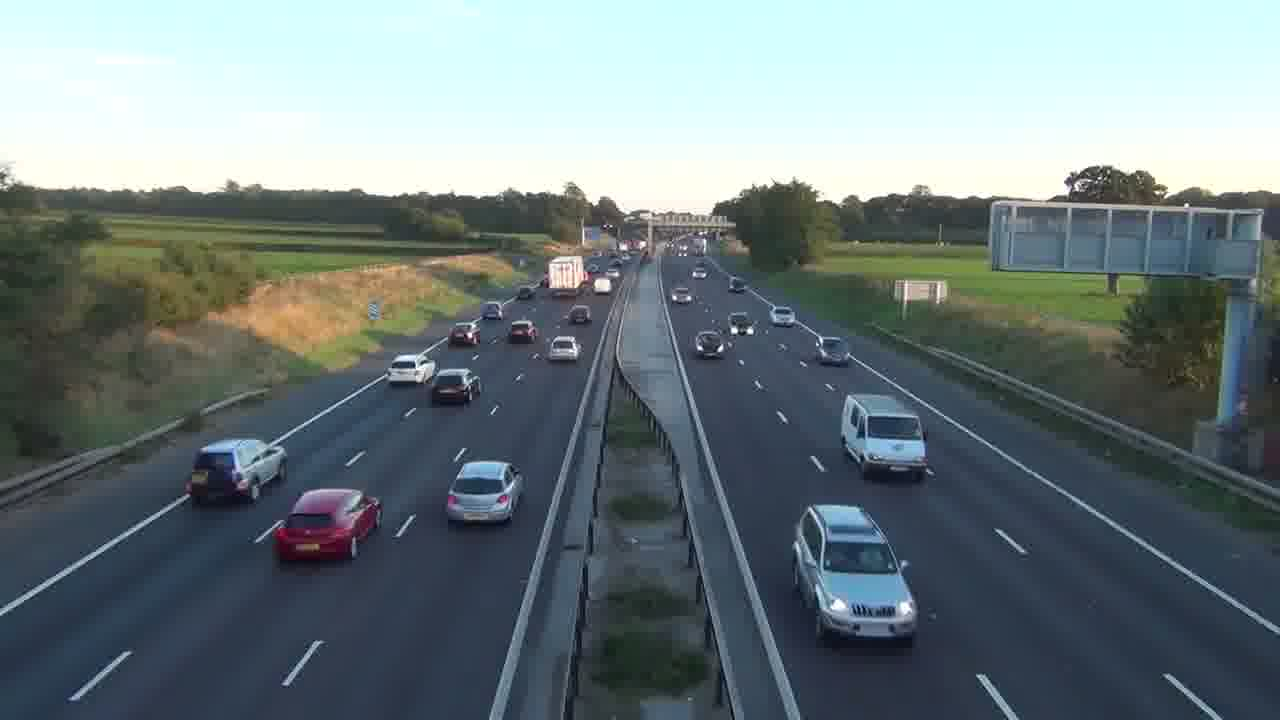car: (791, 502, 919, 645), (272, 488, 383, 563), (188, 437, 288, 506), (445, 460, 527, 526), (429, 368, 480, 404), (387, 353, 436, 385), (694, 330, 728, 358), (548, 335, 582, 362), (506, 319, 537, 344), (565, 304, 592, 325)
truck: (840, 392, 934, 481)
